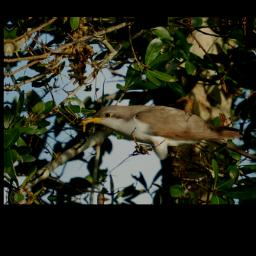Cuckoo: (76, 101, 247, 176)
